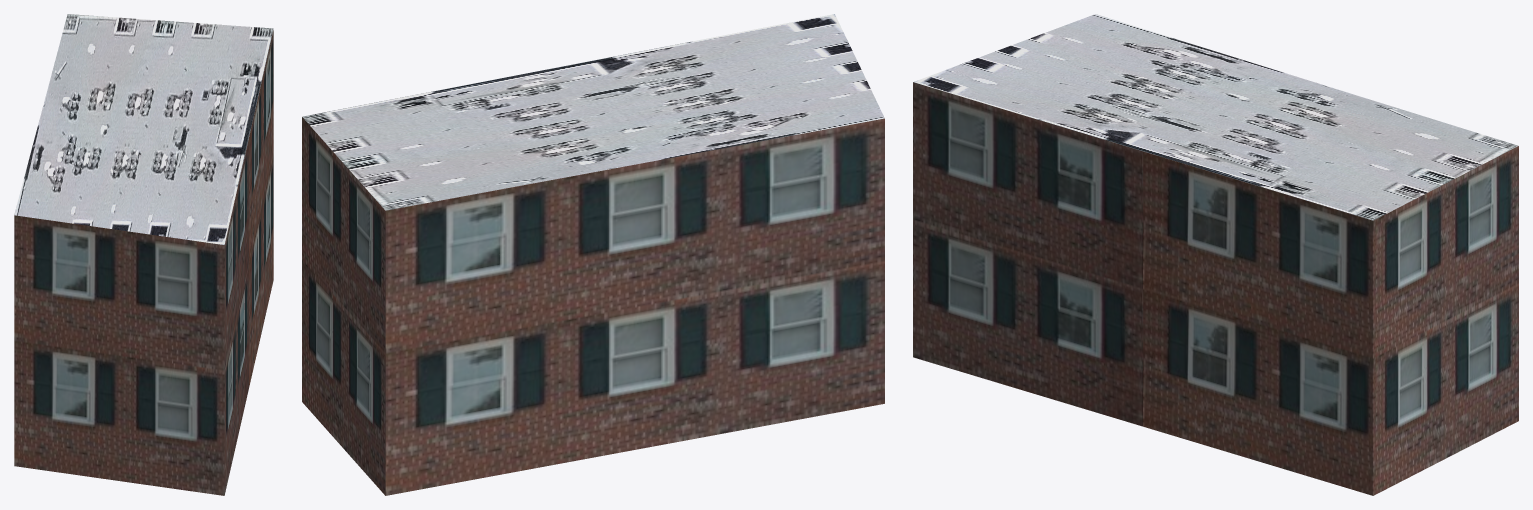
Rendered from ResTex__2766.fbx.
The picture shows the model from 3 angles, left to right: view 1: azimuth 30°, elevation 25°; view 2: azimuth 150°, elevation 25°; view 3: azimuth 270°, elevation 25°; orthographic projection. The views are drawn at different scales.
Visible parts, largest first — view 1: CityEngineMaterial_14_m, CityEngineMaterial_m; view 2: CityEngineMaterial_14_m, CityEngineMaterial_m; view 3: CityEngineMaterial_14_m, CityEngineMaterial_m.
Part boxes in pixels (x1,y1,x2,y2): CityEngineMaterial_14_m: [14, 30, 273, 495]; CityEngineMaterial_m: [14, 14, 273, 244]; CityEngineMaterial_14_m: [302, 117, 884, 495]; CityEngineMaterial_m: [302, 14, 884, 210]; CityEngineMaterial_14_m: [913, 82, 1518, 495]; CityEngineMaterial_m: [913, 14, 1518, 220].
Bounding box in the file's own units: 9.66 × 6 × 11.97.
Materials: 2 (2 with a texture image).
